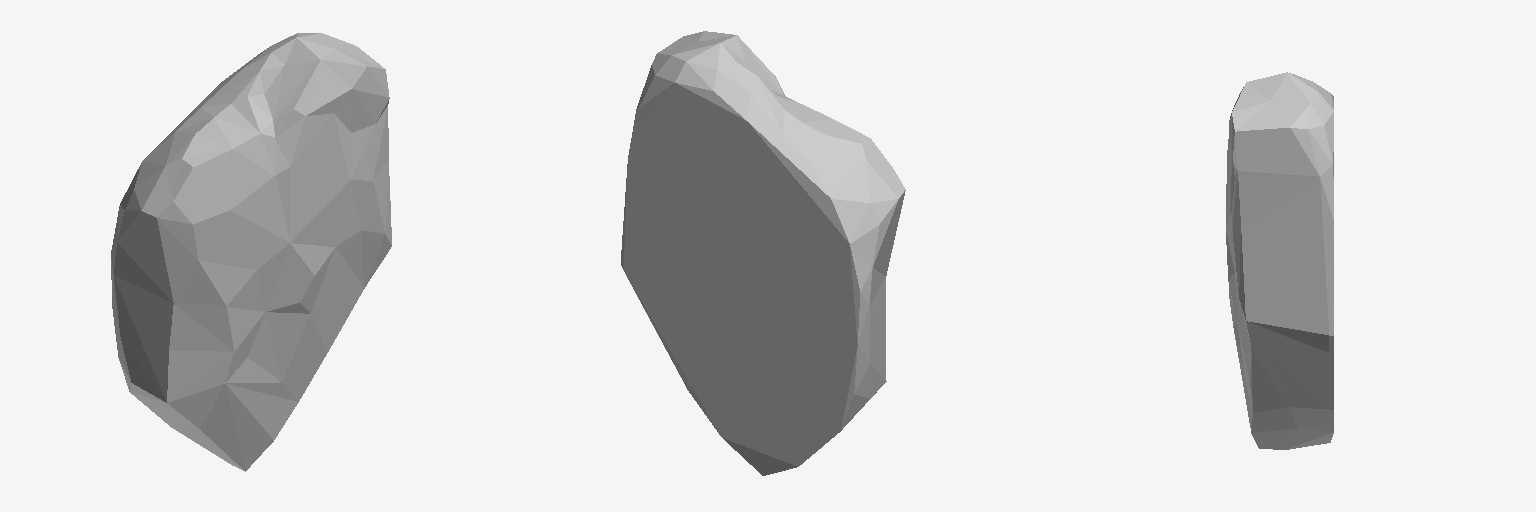
File: MOD_Glacier1.OBJ
3 views of the same model, side by side, from view 1: azimuth 30°, elevation 25°; view 2: azimuth 150°, elevation 25°; view 3: azimuth 270°, elevation 25° (orthographic).
Visible parts, largest first — view 1: Group45375; view 2: Group45375; view 3: Group45375.
Boxes of the visible parts, x1,y1,x2,y2 form: Group45375: [111, 33, 391, 471]; Group45375: [621, 31, 905, 475]; Group45375: [1226, 72, 1333, 449].
Size of the model in its own units: 7.96 by 12.7 by 3.05.